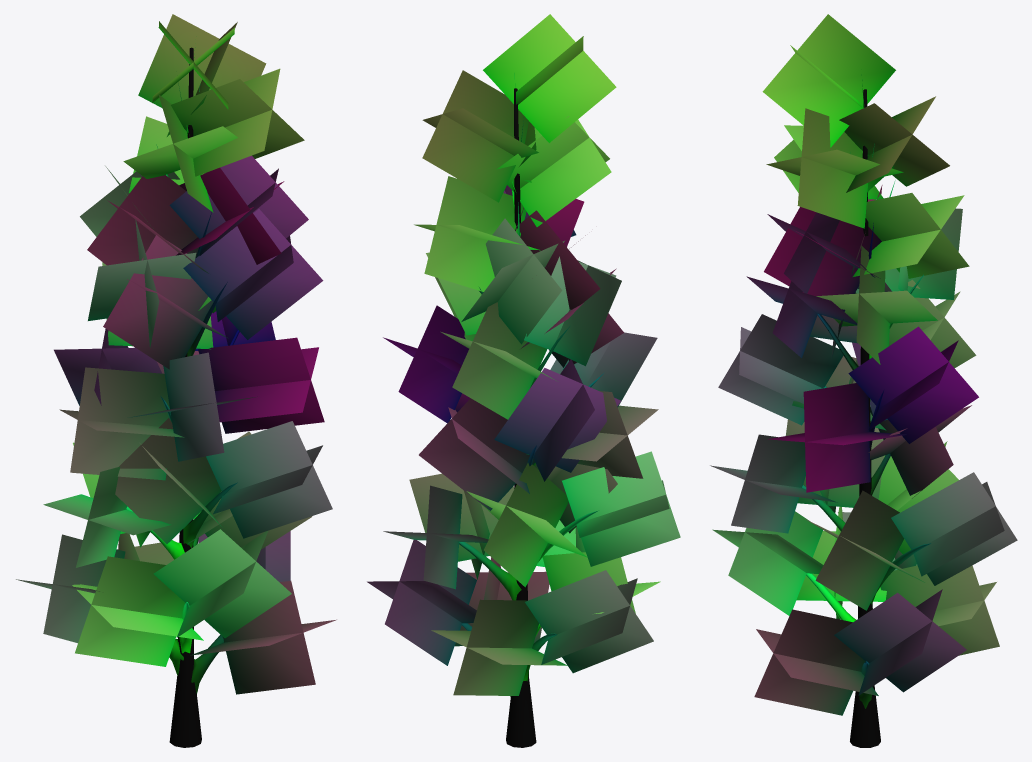
The model's file is M_P5_Tree_3.fbx.
The picture shows the model from 3 angles, left to right: view 1: azimuth 30°, elevation 25°; view 2: azimuth 150°, elevation 25°; view 3: azimuth 270°, elevation 25°; orthographic projection. The views are drawn at different scales.
Visible parts, largest first — view 1: Tree_3; view 2: Tree_3; view 3: Tree_3.
Part boxes in pixels (x1,y1,x2,y2): Tree_3: (16,14,336,747); Tree_3: (367,14,680,747); Tree_3: (710,14,1017,747).
Size of the model in its own units: 267 by 669 by 265.
